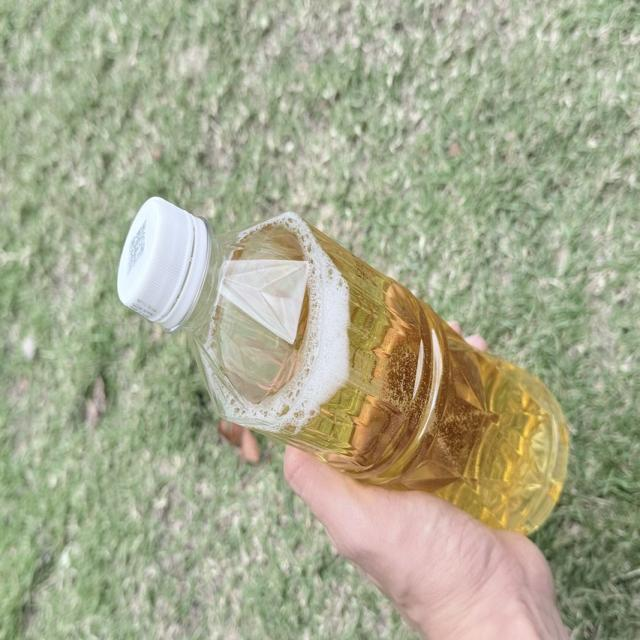high: (118, 197, 567, 533)
